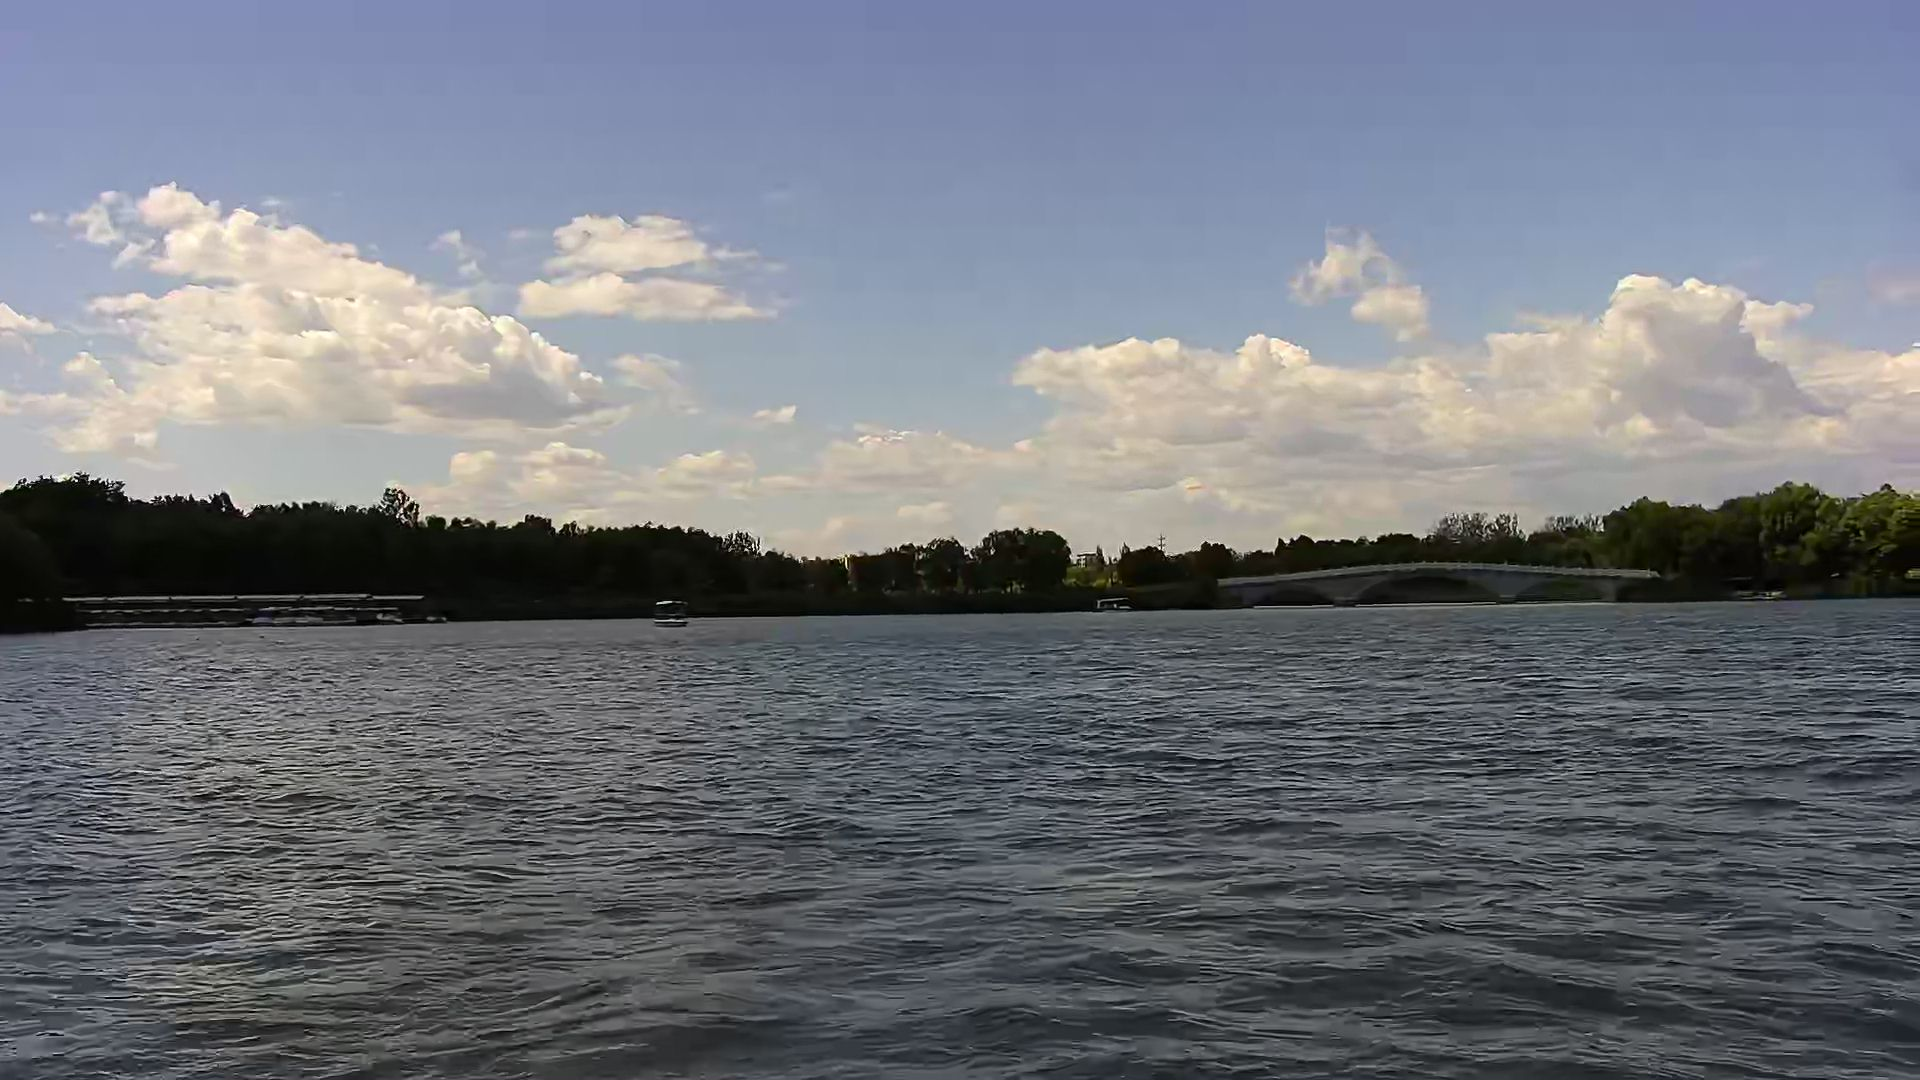boat: (649, 596, 695, 632)
bridge: (1215, 560, 1663, 611)
harbor: (65, 591, 434, 630)
